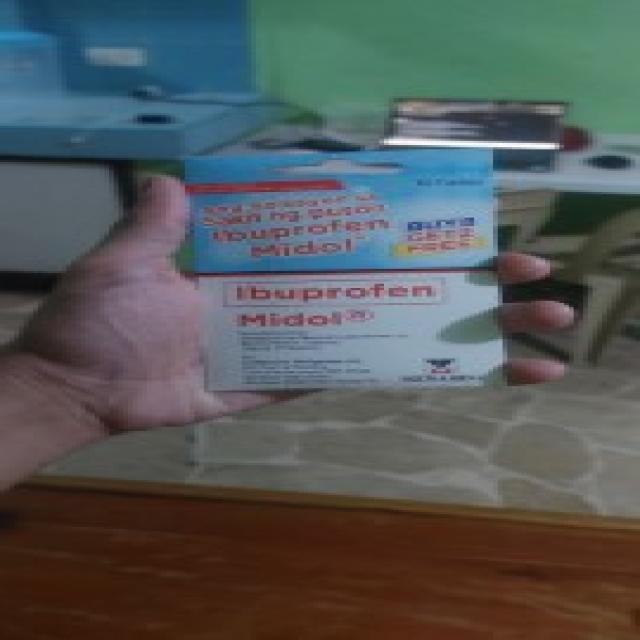Cacat: (199, 148, 484, 384)
